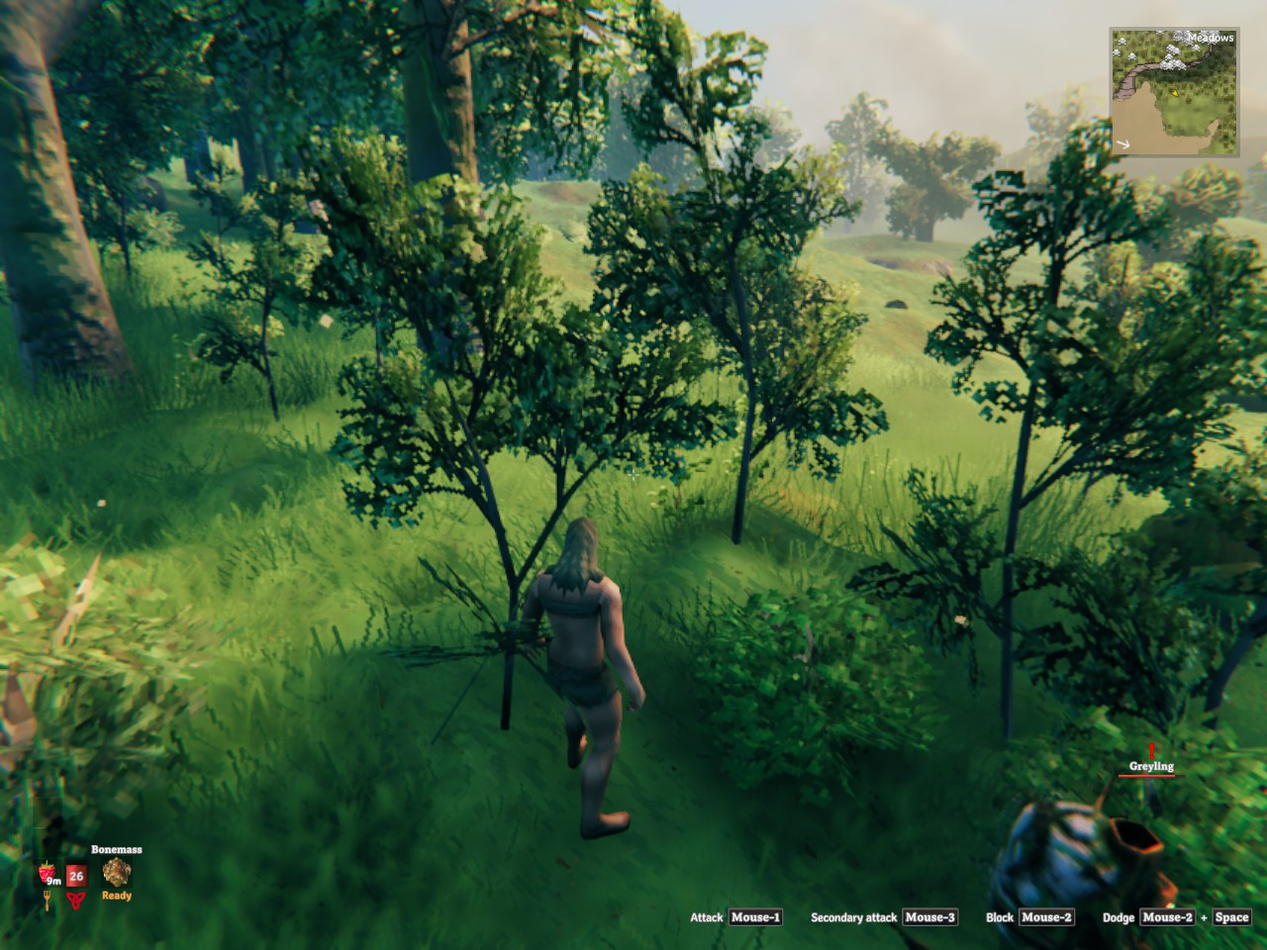Greyling: (988, 779, 1176, 949)
